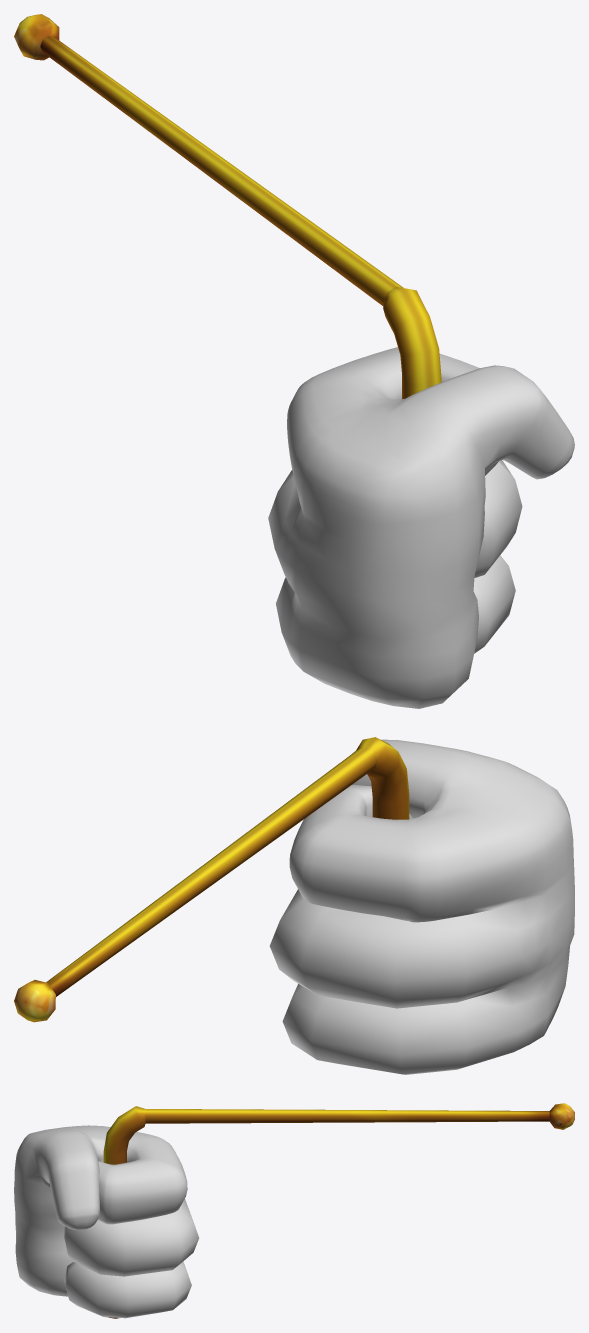
Rendered from Lrod_L.FBX.
3 renders of one model, top to bottom at view 1: azimuth 30°, elevation 25°; view 2: azimuth 150°, elevation 25°; view 3: azimuth 270°, elevation 25°, orthographic. The views are drawn at different scales.
Visible parts, largest first — view 1: Lrod_L_Hand, Lrod_L; view 2: Lrod_L_Hand, Lrod_L; view 3: Lrod_L_Hand, Lrod_L.
Boxes of the visible parts, x1=… form: Lrod_L_Hand: x1=268, y1=347, x2=574, y2=708; Lrod_L: x1=14, y1=14, x2=441, y2=399; Lrod_L_Hand: x1=269, y1=739, x2=574, y2=1074; Lrod_L: x1=14, y1=737, x2=409, y2=1022; Lrod_L_Hand: x1=14, y1=1125, x2=199, y2=1318; Lrod_L: x1=103, y1=1103, x2=574, y2=1318.
Size of the model in its own units: 7.26 by 9.48 by 23.08.
1 material, 1 textured.
